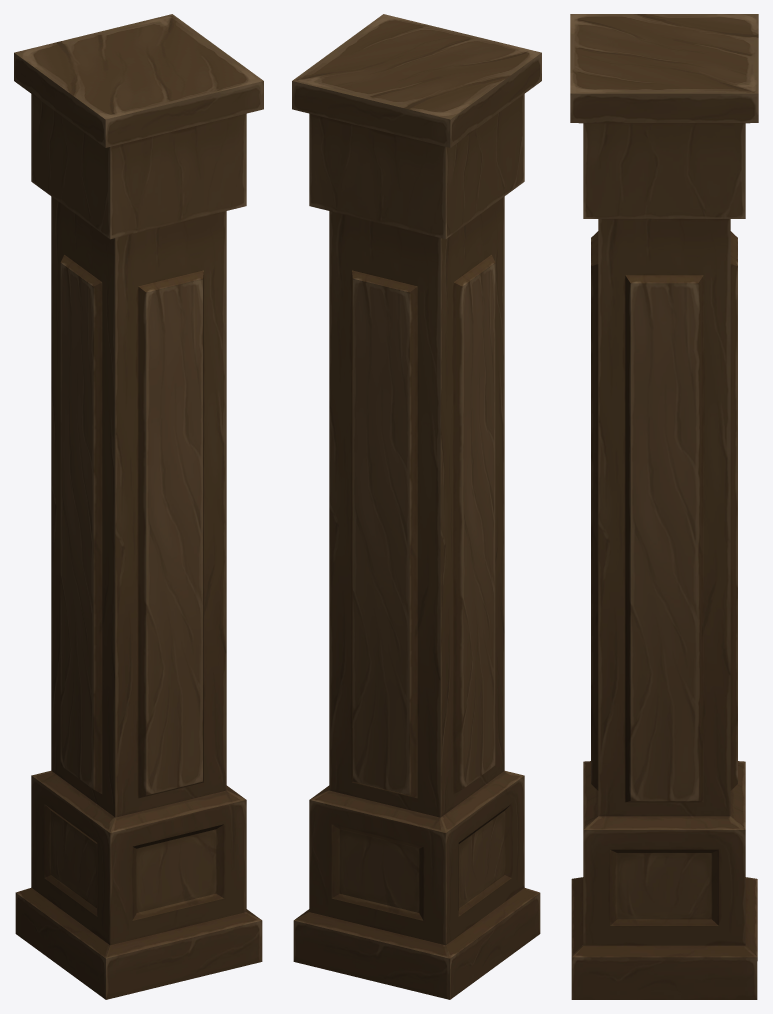
Rendered from Pillar_2_1.FBX.
The picture shows the model from 3 angles, left to right: view 1: azimuth 30°, elevation 25°; view 2: azimuth 150°, elevation 25°; view 3: azimuth 270°, elevation 25°; orthographic projection. The views are drawn at different scales.
Visible parts, largest first — view 1: Pillar_2_1; view 2: Pillar_2_1; view 3: Pillar_2_1.
Part boxes in pixels (box(x1,y1,x2,y2)): Pillar_2_1: box(14, 14, 263, 999); Pillar_2_1: box(292, 14, 541, 999); Pillar_2_1: box(570, 14, 758, 999).
Bounding box in the file's own units: 583 × 3100 × 583.
